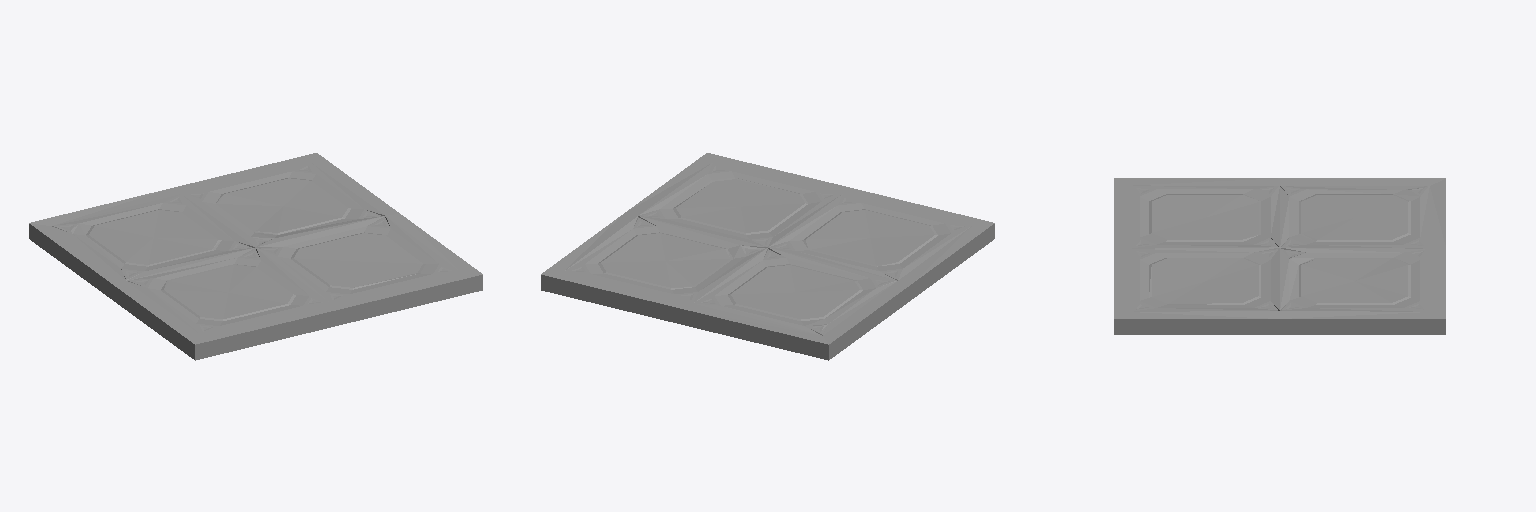
Rendered from platform-2.obj.
3 renders of one model, left to right at view 1: azimuth 30°, elevation 25°; view 2: azimuth 150°, elevation 25°; view 3: azimuth 270°, elevation 25°, orthographic.
Visible parts, largest first — view 1: Cube.001_Cube.017; view 2: Cube.001_Cube.017; view 3: Cube.001_Cube.017.
Part boxes in pixels (x1,y1,x2,y2): Cube.001_Cube.017: (29,153,482,360); Cube.001_Cube.017: (541,153,994,360); Cube.001_Cube.017: (1114,178,1445,334).
Size of the model in its own units: 7.96 by 0.4537 by 7.96.